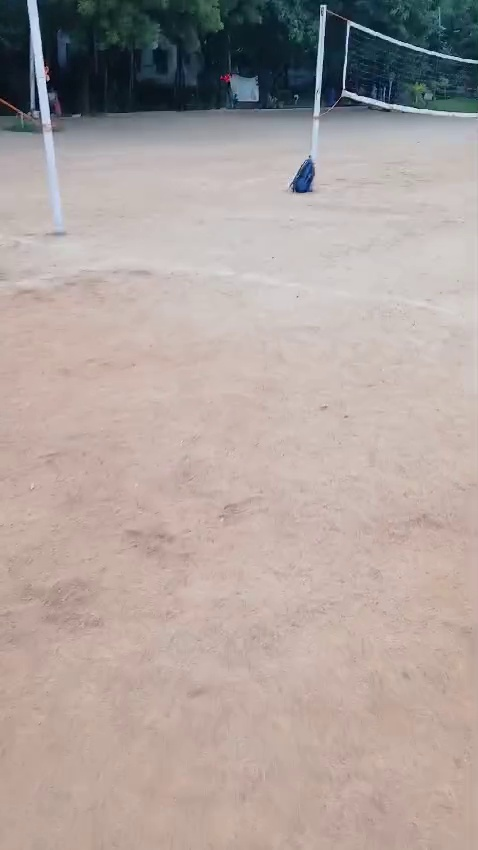backpack: (289, 153, 315, 193)
